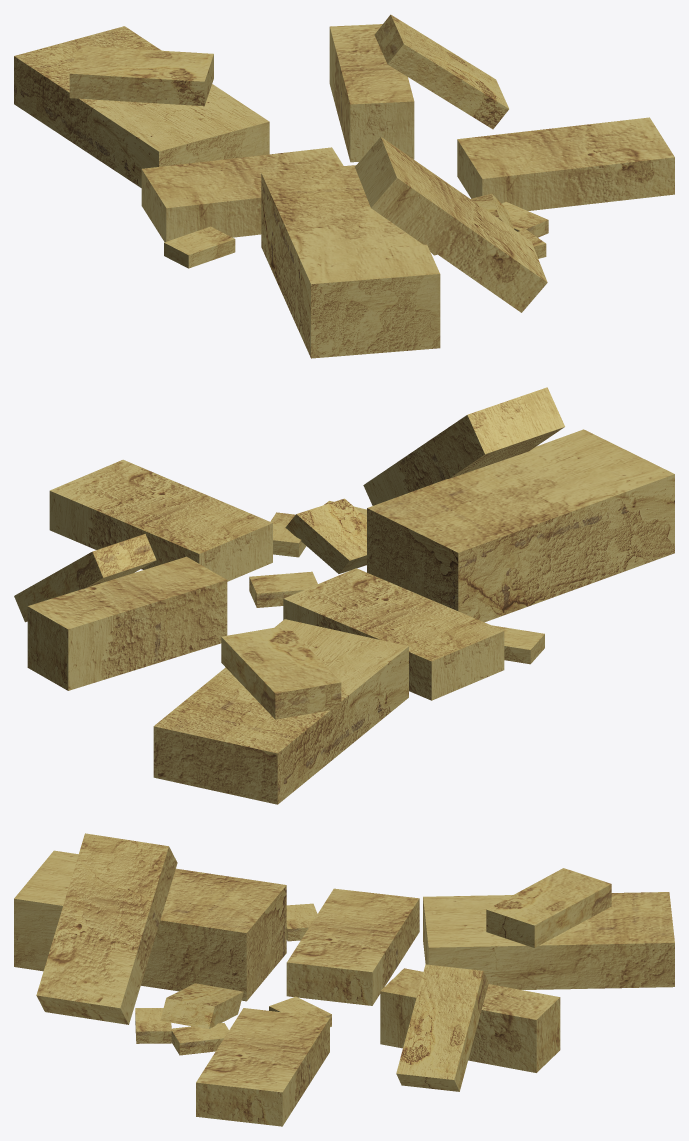
File: stones.fbx
3 renders of one model, top to bottom at view 1: azimuth 30°, elevation 25°; view 2: azimuth 150°, elevation 25°; view 3: azimuth 270°, elevation 25°, orthographic. The views are drawn at different scales.
Parts seen in each view (by area): view 1: polySurface1; view 2: polySurface1; view 3: polySurface1.
Boxes of the visible parts, x1,y1,x2,y2 form: polySurface1: [14, 14, 674, 358]; polySurface1: [14, 387, 674, 804]; polySurface1: [14, 833, 674, 1126].
Size of the model in its own units: 1.35 by 0.3975 by 1.79.
